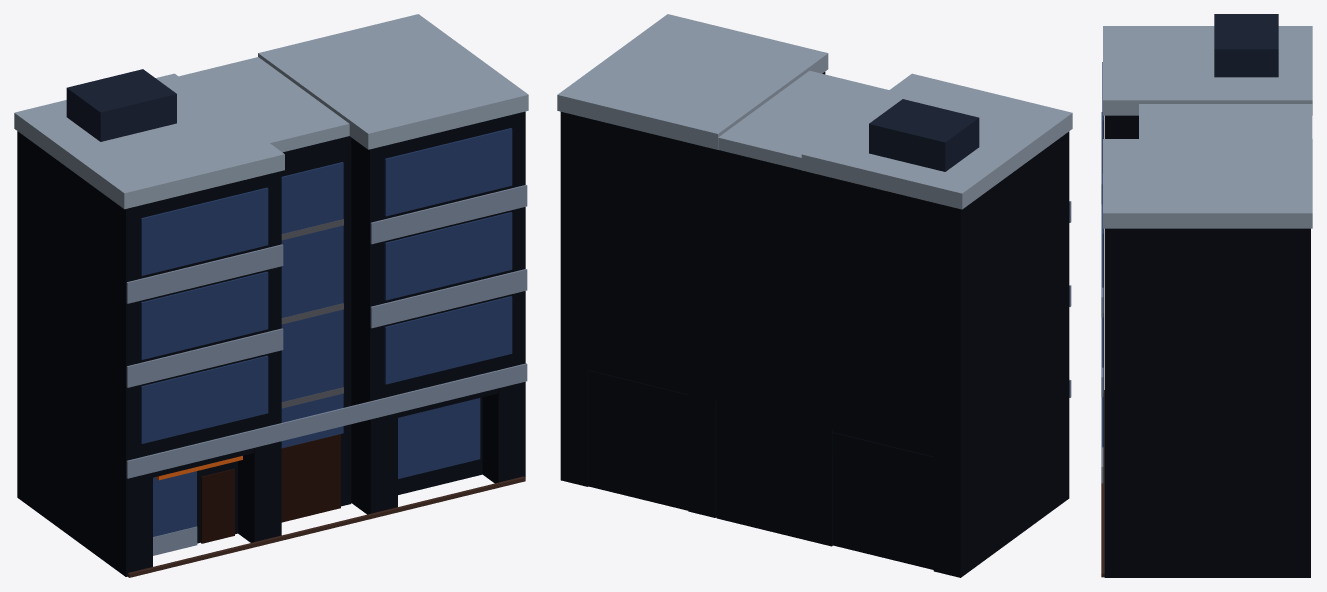
File: exchange2.obj
The picture shows the model from 3 angles, left to right: view 1: azimuth 30°, elevation 25°; view 2: azimuth 150°, elevation 25°; view 3: azimuth 270°, elevation 25°; orthographic projection. The views are drawn at different scales.
Visible parts, largest first — view 1: wings, caps, wing-glazing, base-piers, slot-glazing, spandrels, right-base, transom, roof-plant, right-shopfront, slot-back, atrium-door (+7 smaller); view 2: wings, caps, slot-back, base-piers, right-base, base-back, roof-plant, base-heads; view 3: wings, caps, right-base, roof-plant, spandrels, wing-glazing, pavement.
Part boxes in pixels (<box>): wings: <box>17,111,525,460</box>; caps: <box>14,14,528,209</box>; wing-glazing: <box>141,128,512,443</box>; base-piers: <box>17,381,281,576</box>; slot-glazing: <box>281,162,343,448</box>; spandrels: <box>126,185,527,387</box>; right-base: <box>351,363,525,514</box>; transom: <box>126,363,527,478</box>; roof-plant: <box>66,69,176,141</box>; right-shopfront: <box>398,398,480,478</box>; slot-back: <box>281,136,351,506</box>; atrium-door: <box>281,434,340,522</box>; wings: <box>560,72,1069,460</box>; caps: <box>557,14,1072,209</box>; slot-back: <box>716,149,804,539</box>; base-piers: <box>804,382,1069,577</box>; right-base: <box>560,363,716,517</box>; base-back: <box>833,430,933,569</box>; roof-plant: <box>869,99,979,171</box>; base-heads: <box>832,432,933,478</box>; wings: <box>1104,115,1310,466</box>; caps: <box>1103,26,1312,228</box>; right-base: <box>1104,467,1310,577</box>; roof-plant: <box>1214,14,1278,77</box>; spandrels: <box>1101,112,1103,396</box>; wing-glazing: <box>1102,62,1103,447</box>; pavement: <box>1101,390,1104,577</box>.
Size of the model in its own units: 6.88 by 6.74 by 3.27.
